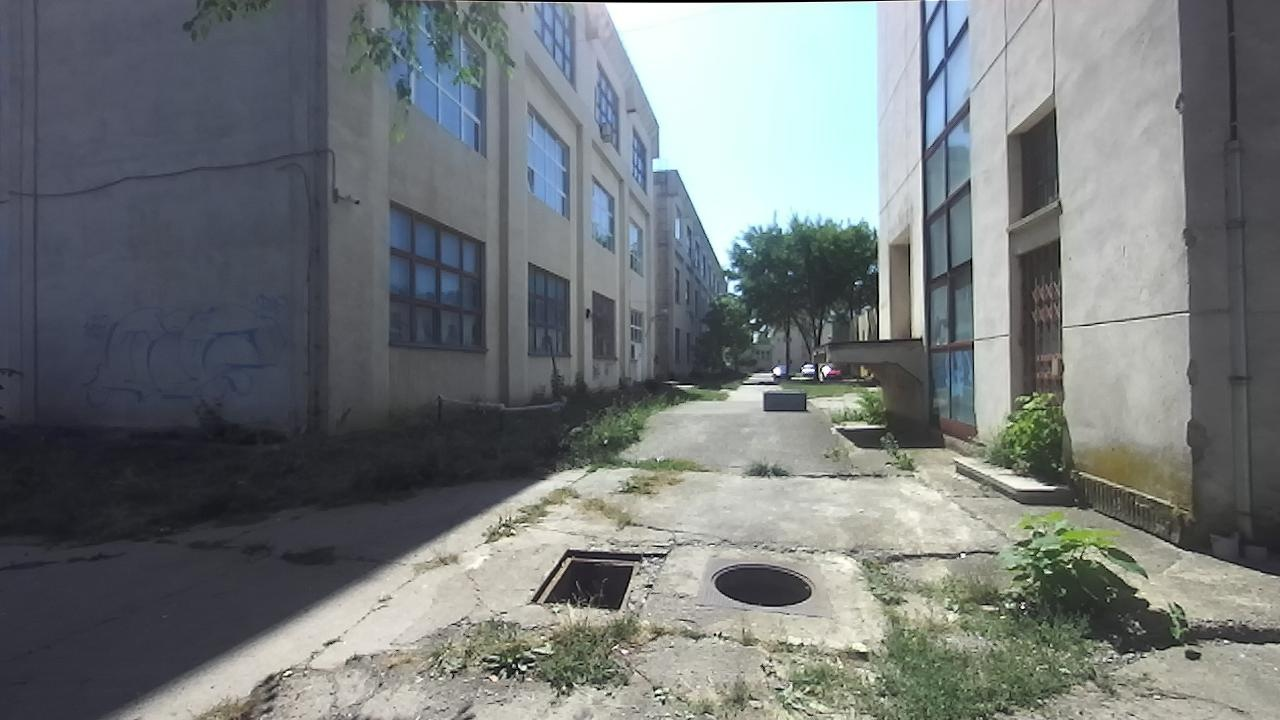drain: (525, 542, 646, 611), (706, 560, 821, 610)
